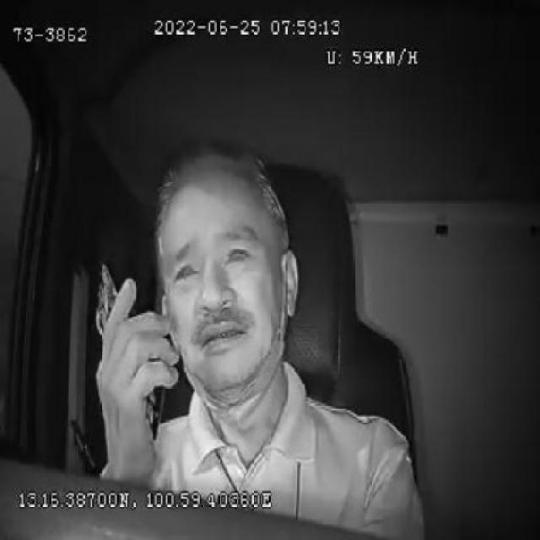phone: (92, 256, 164, 444)
